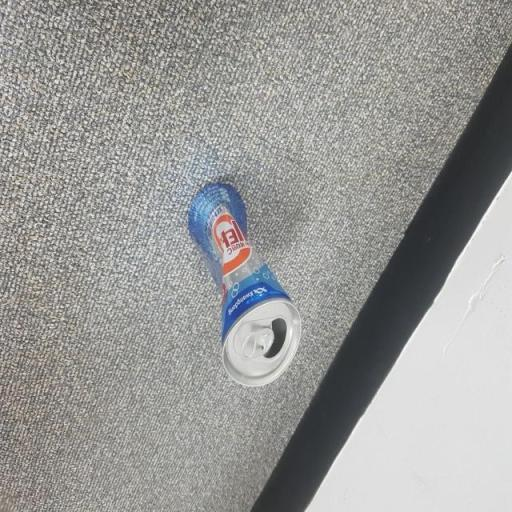metal: (180, 169, 309, 420)
